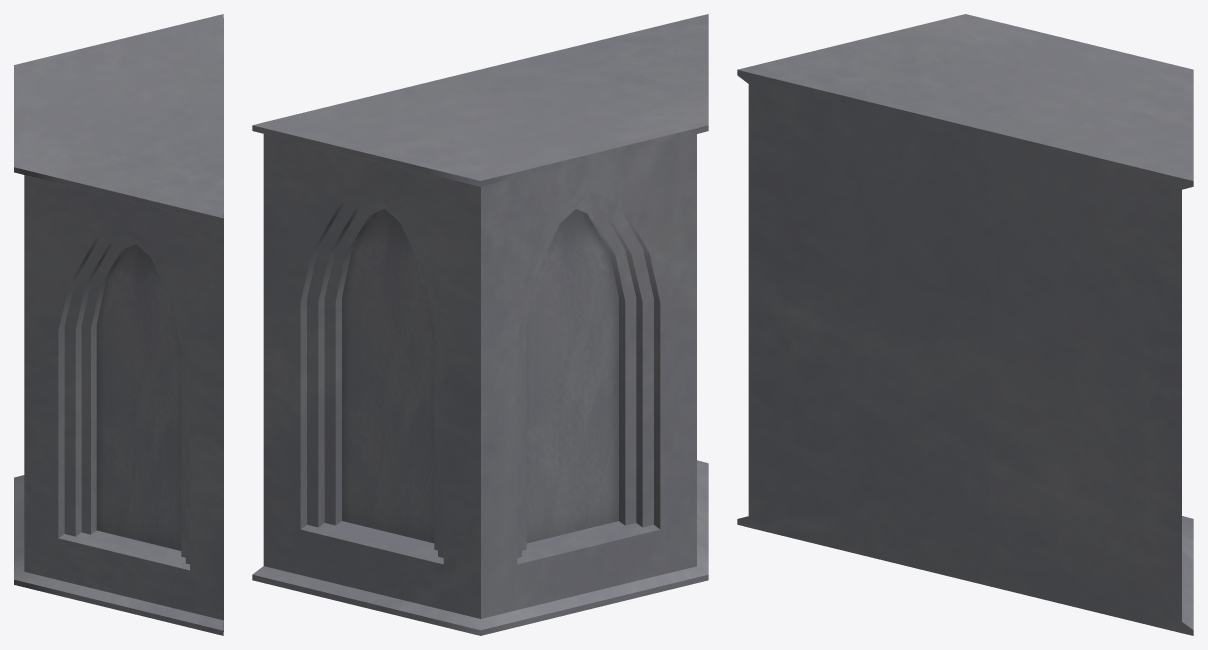
The model's file is PillarHexHole.001.fbx.
The picture shows the model from 3 angles, left to right: view 1: azimuth 30°, elevation 25°; view 2: azimuth 150°, elevation 25°; view 3: azimuth 270°, elevation 25°; orthographic projection. The views are drawn at different scales.
Visible parts, largest first — view 1: PillarHexHole.001; view 2: PillarHexHole.001; view 3: PillarHexHole.001.
Part boxes in pixels (bbox=[...]): PillarHexHole.001: bbox=[14, 14, 223, 635]; PillarHexHole.001: bbox=[252, 14, 708, 635]; PillarHexHole.001: bbox=[737, 14, 1193, 635].
Bounding box in the file's own units: 157 × 200 × 182.
